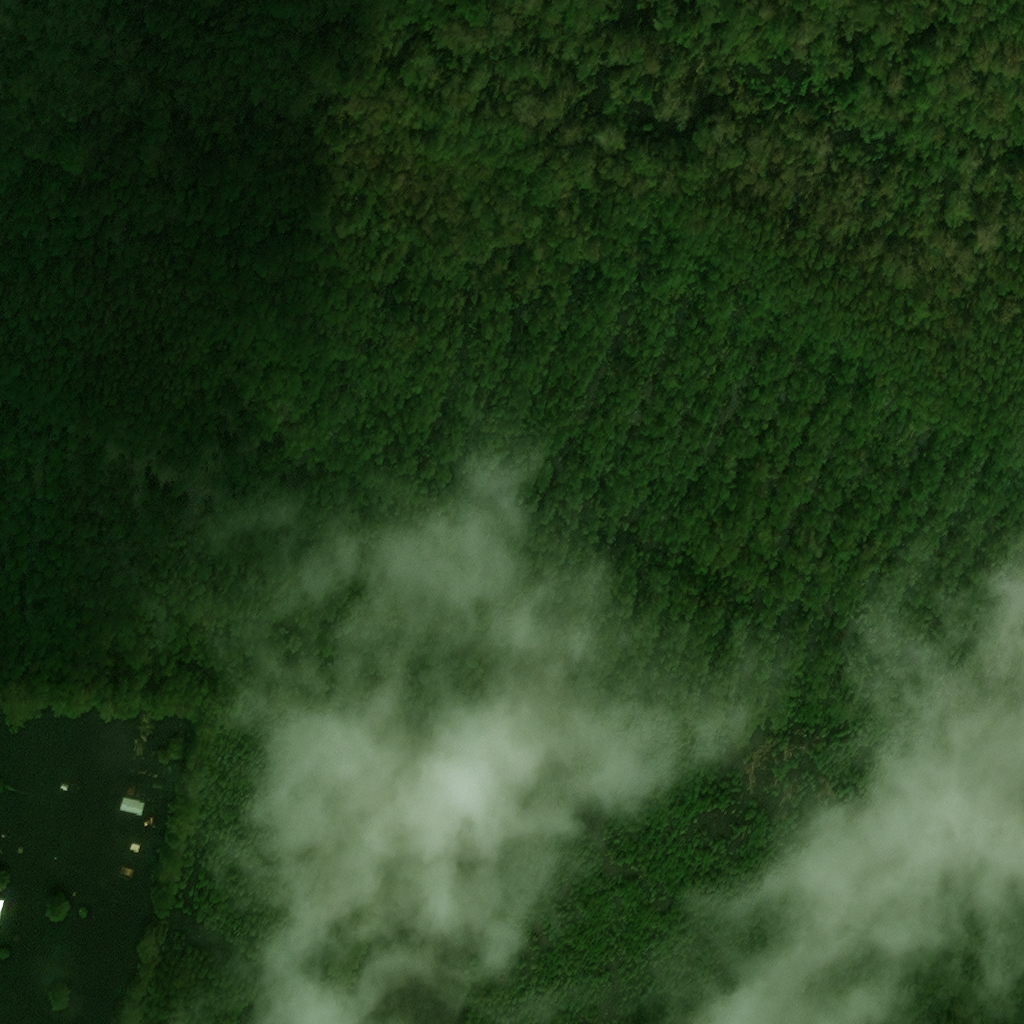destroyed: (120, 866, 135, 881), (127, 791, 137, 799)
major_damage: (120, 797, 148, 817), (0, 897, 5, 920), (130, 843, 140, 853)
unclassified: (400, 796, 463, 826), (368, 752, 395, 772)
